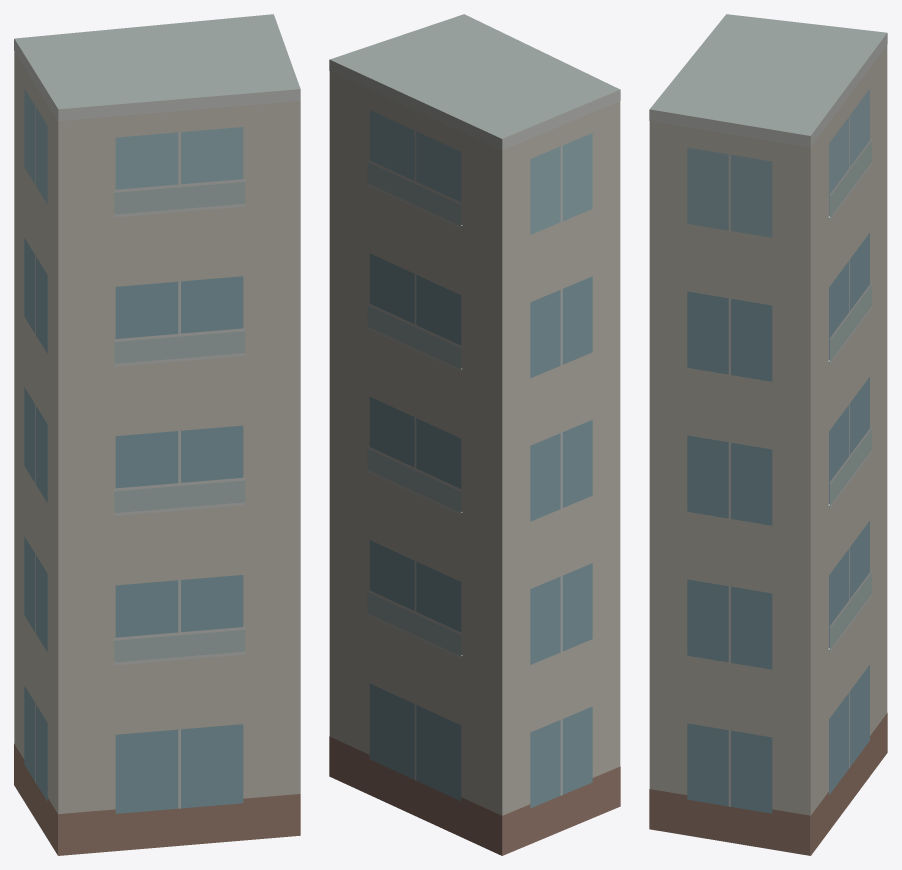
The model's file is survey-upis-32603737.glb.
3 renders of one model, left to right at view 1: azimuth 30°, elevation 25°; view 2: azimuth 150°, elevation 25°; view 3: azimuth 270°, elevation 25°, orthographic. The views are drawn at different scales.
Parts seen in each view (by area): view 1: survey-upis-32603737.tmp; view 2: survey-upis-32603737.tmp; view 3: survey-upis-32603737.tmp.
Part boxes in pixels (x1,y1,x2,y2): survey-upis-32603737.tmp: (14, 14, 300, 855); survey-upis-32603737.tmp: (329, 14, 620, 855); survey-upis-32603737.tmp: (649, 14, 887, 855).
Bounding box in the file's own units: 5.55 × 15.25 × 4.58.
